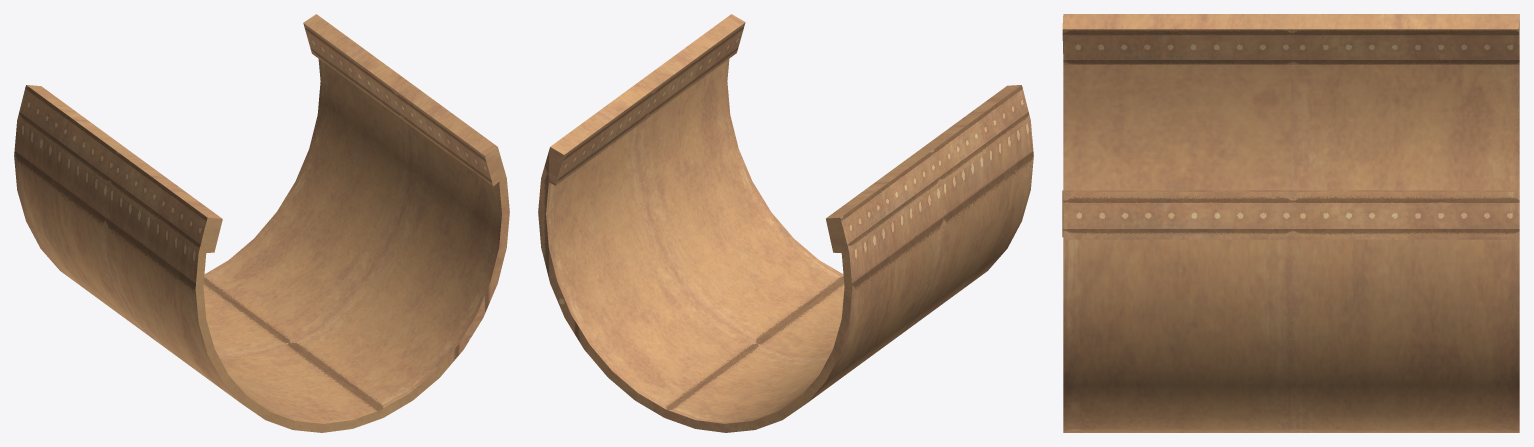
The model's file is Small_Wall_A.fbx.
The picture shows the model from 3 angles, left to right: view 1: azimuth 30°, elevation 25°; view 2: azimuth 150°, elevation 25°; view 3: azimuth 270°, elevation 25°; orthographic projection. The views are drawn at different scales.
Visible parts, largest first — view 1: Small_Wall_A; view 2: Small_Wall_A; view 3: Small_Wall_A.
Boxes of the visible parts, left/top/right/bottom form: Small_Wall_A: left=14, top=14, right=509, bottom=432; Small_Wall_A: left=538, top=14, right=1033, bottom=432; Small_Wall_A: left=1062, top=14, right=1519, bottom=432.
Bounding box in the file's own units: 4 × 3 × 4.01.
